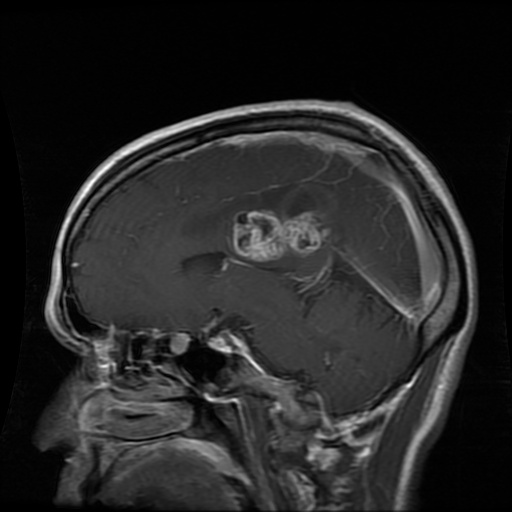glioma: (231, 209, 333, 260)
